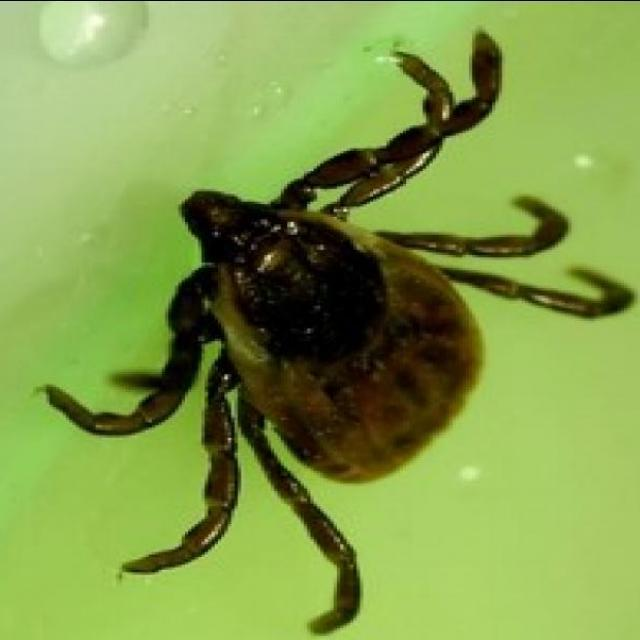Rhipicephalus Sanguineus-F: (43, 28, 634, 630)
